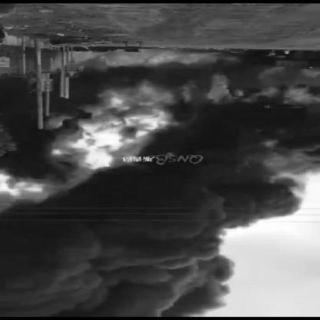Fire: (0, 99, 164, 203)
Smoke: (44, 50, 312, 102)
